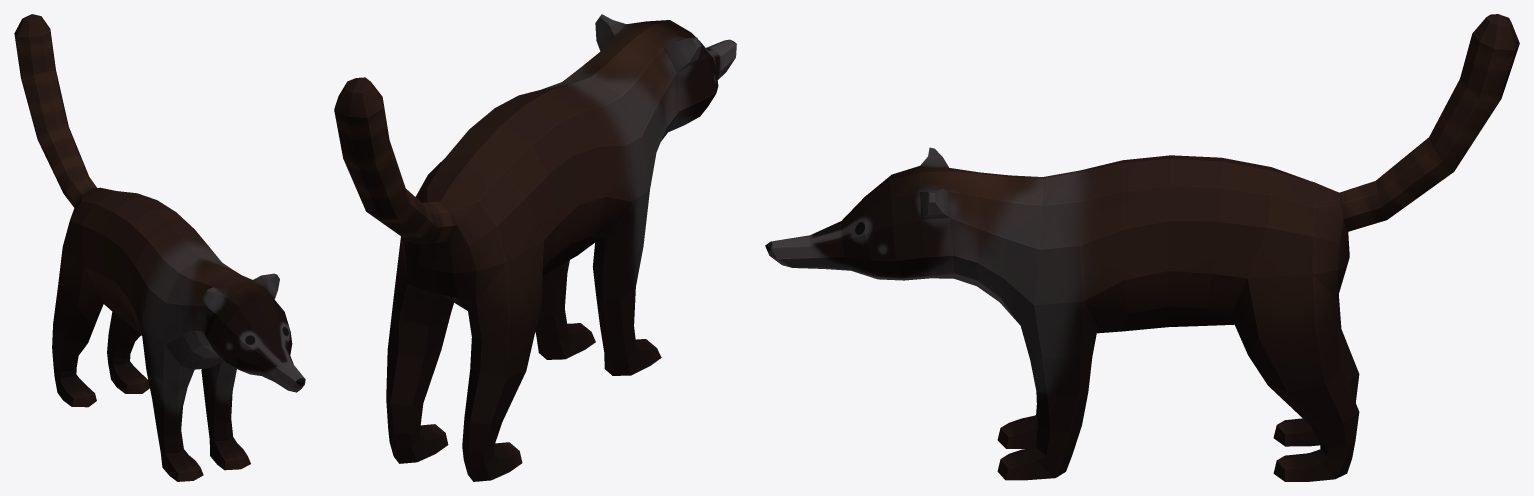
File: Coati.gltf
The picture shows the model from 3 angles, left to right: view 1: azimuth 30°, elevation 25°; view 2: azimuth 150°, elevation 25°; view 3: azimuth 270°, elevation 25°; orthographic projection. The views are drawn at different scales.
Parts seen in each view (by area): view 1: node-0; view 2: node-0; view 3: node-0.
Boxes of the visible parts, x1,y1,x2,y2 form: node-0: [14, 14, 305, 481]; node-0: [334, 14, 736, 481]; node-0: [765, 14, 1519, 481].
Bounding box in the file's own units: 0.8993 × 3.15 × 4.88.
Materials: 1 (1 with a texture image).
